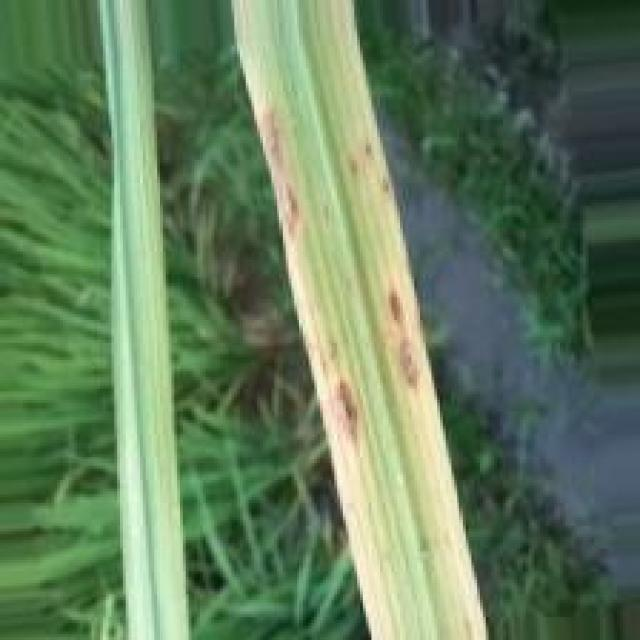Brown_Spot: (259, 100, 302, 249), (381, 278, 426, 397), (338, 135, 394, 203), (321, 374, 363, 460), (318, 332, 344, 363)
